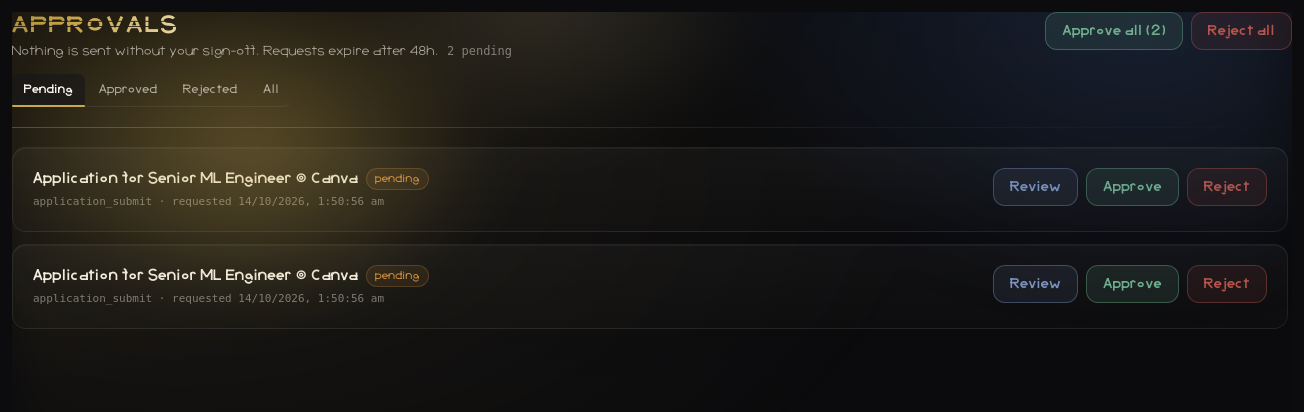
it: bulk-approve honestly handles the U2c below-quality-floor 409 (ticket/bulkapprove-409) › classifies below-floor 409s separately from real failures and retries with acknowledgement on confirm
The image size is (1304, 412).
Step 1. Click the button with test id "bulk-approve-btn" → click(1114, 31), box [1046, 12, 1183, 50]
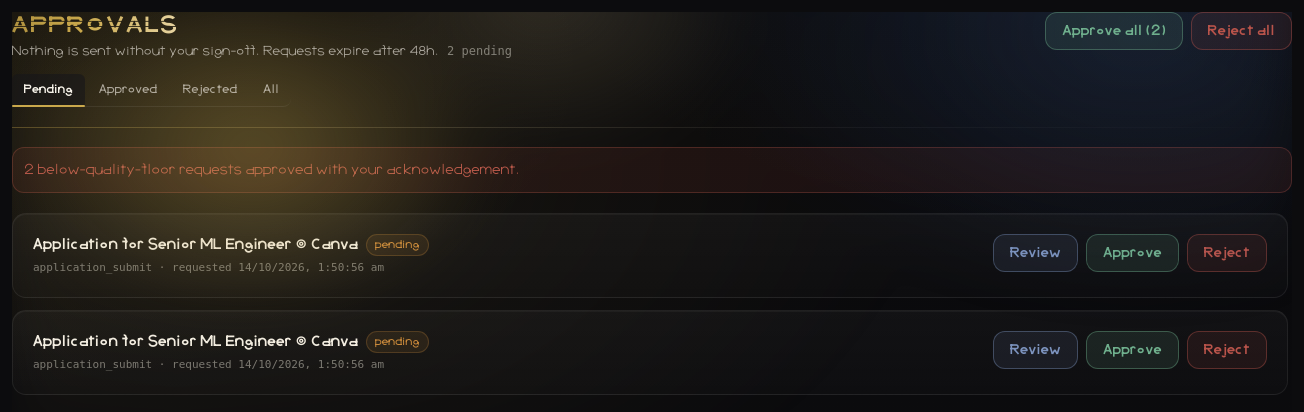
Result: the message "2 below-quality-floor requests approved with your acknowledgement." is shown at [12, 147, 1292, 193]
Result: the message shows "approved with your acknowledgement" at [25, 163, 520, 177]
